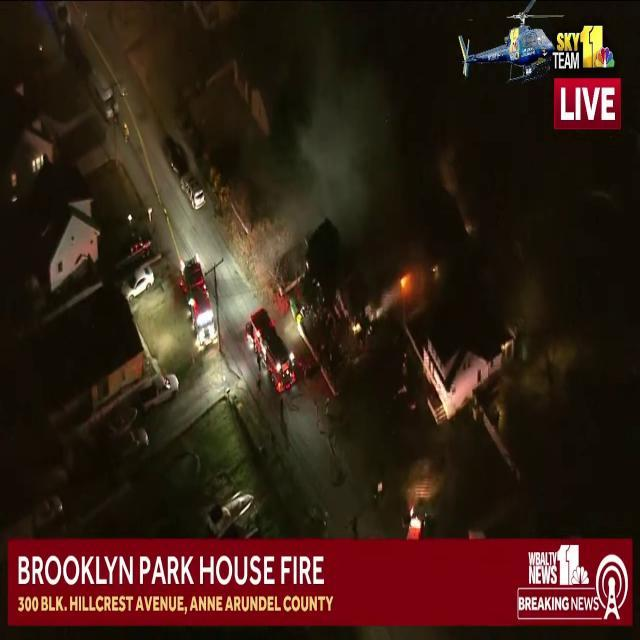Smoke: (296, 35, 408, 242)
